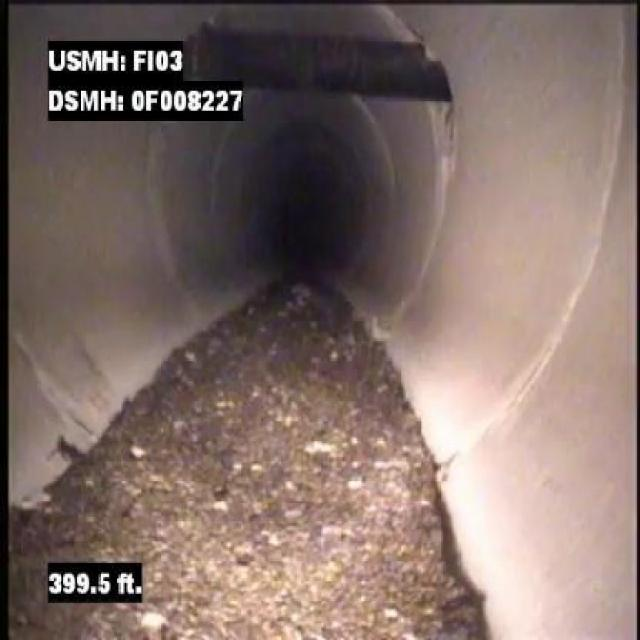Utility intrusion: (172, 29, 450, 109)
